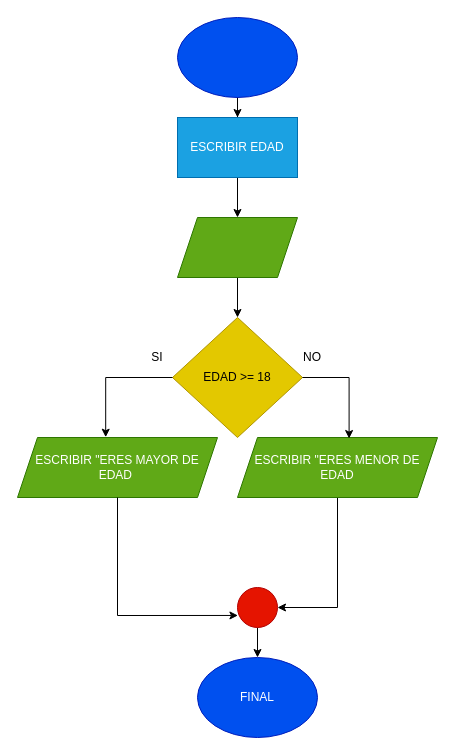
Some shapes in this 455 by 755 pixel diagram are drawn without their labels. Here are the shapes that lost their labels. From the top down, the centre of each, then its label:
At pixel 237 57: "INICIO".
At pixel 237 247: "LEER EDAD".
